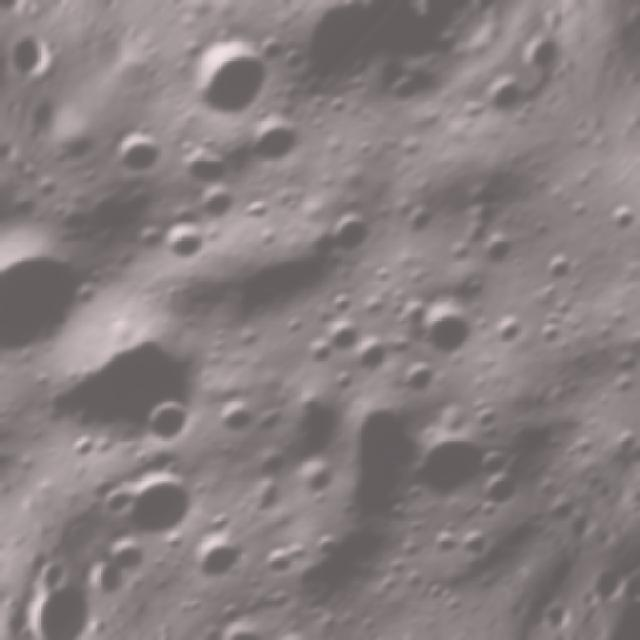crater: (29, 290, 234, 496), (295, 382, 450, 538), (0, 202, 123, 390), (99, 449, 216, 566), (398, 406, 514, 523), (170, 18, 285, 134), (406, 287, 488, 370), (309, 190, 386, 268), (234, 103, 308, 179), (99, 114, 173, 188), (178, 522, 251, 595), (132, 387, 203, 459), (468, 60, 537, 129), (171, 132, 240, 200), (154, 208, 218, 272), (467, 460, 530, 522), (286, 448, 346, 508), (376, 61, 435, 119), (184, 176, 242, 233), (466, 431, 522, 487), (87, 473, 142, 529), (385, 284, 440, 339), (530, 242, 584, 296), (481, 304, 534, 356), (468, 223, 520, 275), (239, 470, 290, 521), (447, 520, 498, 571), (457, 391, 508, 442), (209, 392, 260, 442), (523, 310, 572, 359), (253, 542, 301, 590), (319, 310, 367, 358), (397, 197, 445, 245), (58, 427, 105, 475), (296, 328, 344, 375), (595, 192, 640, 242), (268, 34, 315, 81), (320, 282, 362, 324), (128, 214, 170, 255), (249, 27, 289, 67), (376, 548, 416, 587), (307, 530, 344, 568), (388, 533, 426, 570), (396, 562, 432, 600), (213, 617, 272, 640), (323, 0, 398, 18), (261, 618, 322, 640), (328, 363, 363, 399)
